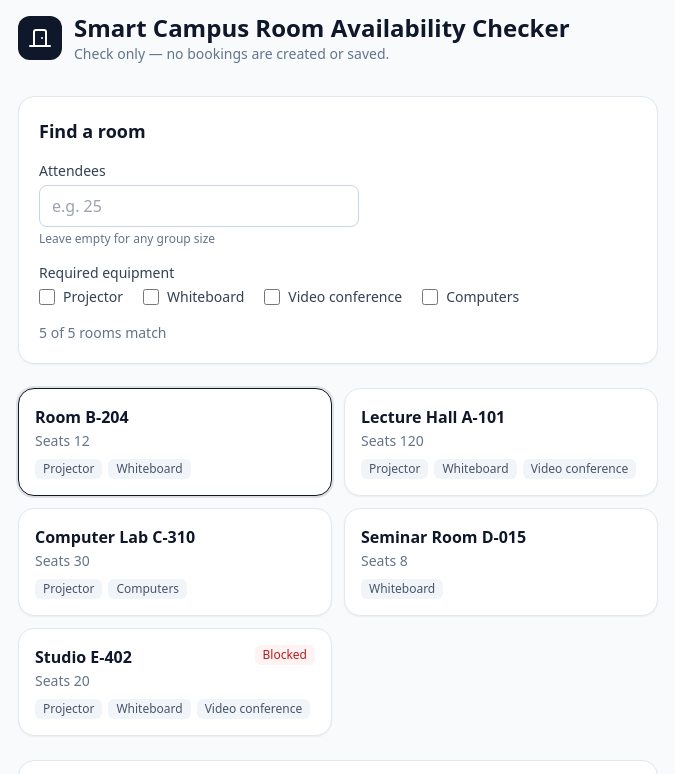
Test: F1 capacity filter in the UI › an invalid attendees value is explained and does not filter
In the number field labelled "Attendees": (199, 206) [39,185,359,227], type "0"
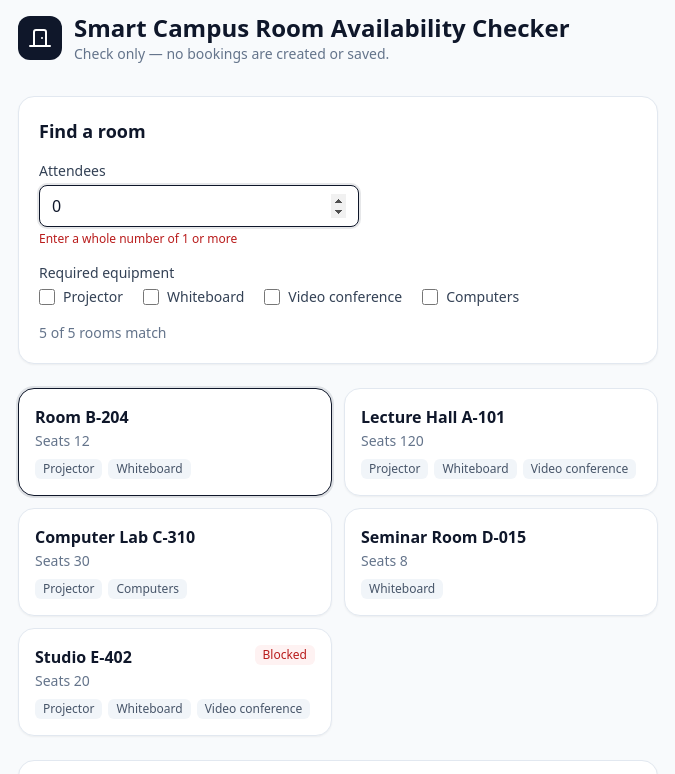
Result: the text "Enter a whole number of 1 or more" is shown at [39,230,237,247]
